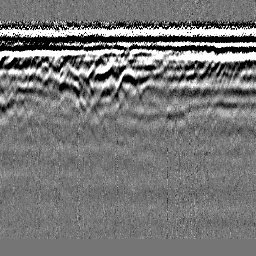cavity: (113, 67, 142, 100)
